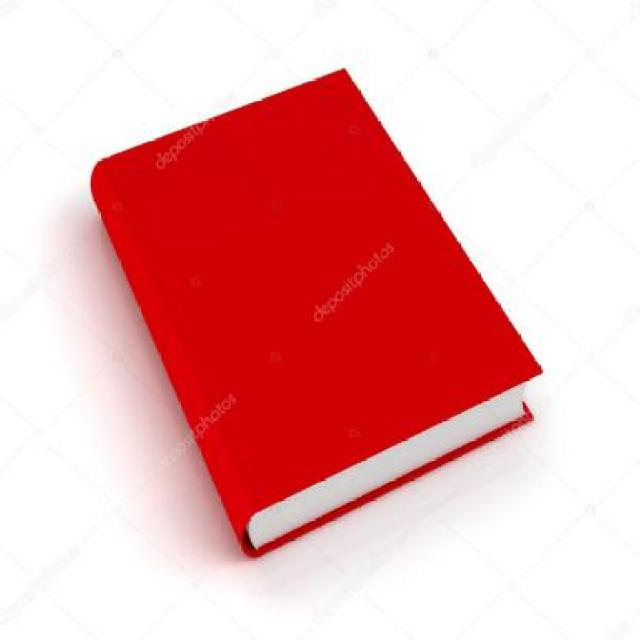book: (55, 64, 560, 556)
